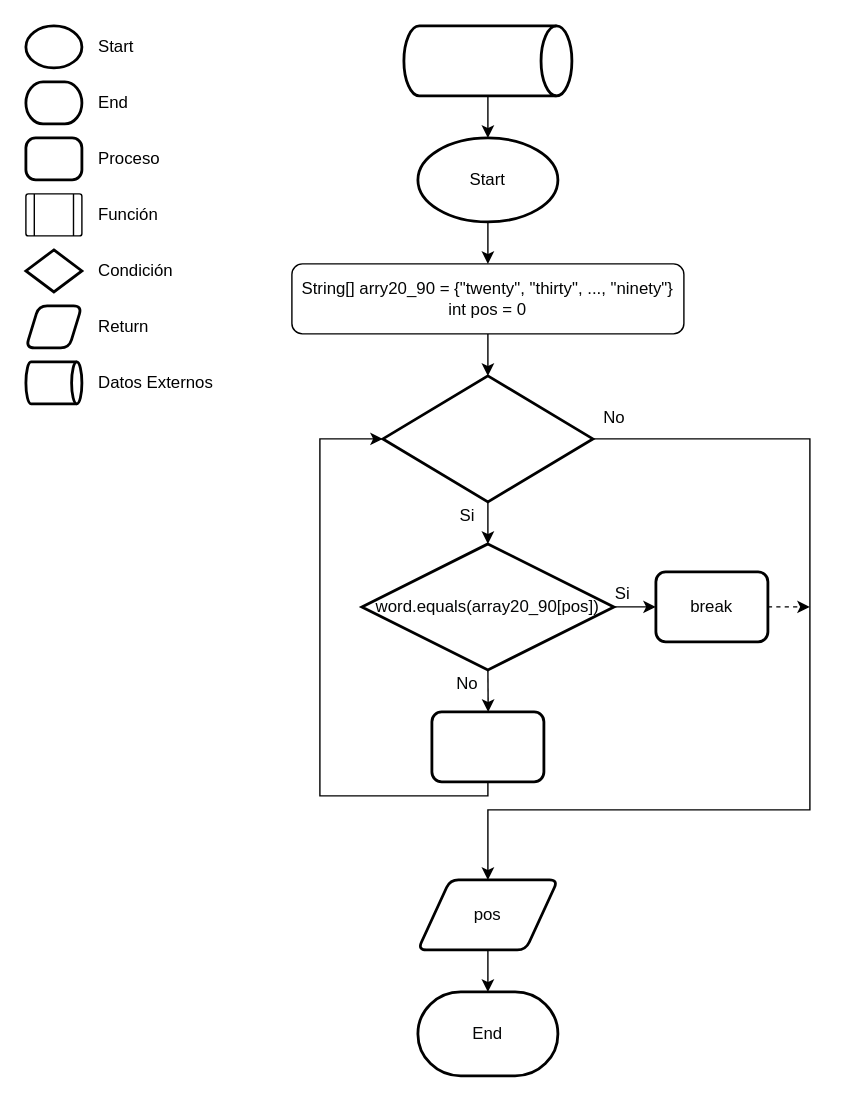
Some shapes in this 846 by 1100 pixel diagram are drawn without their labels. The shapes that lost their labels are listed below. From the top down, each one's centre as x and y in pixels, then its label:
At (x=487, y=60): "String word".
At (x=487, y=438): "pos < array20_90.length".
At (x=487, y=746): "pos++".
